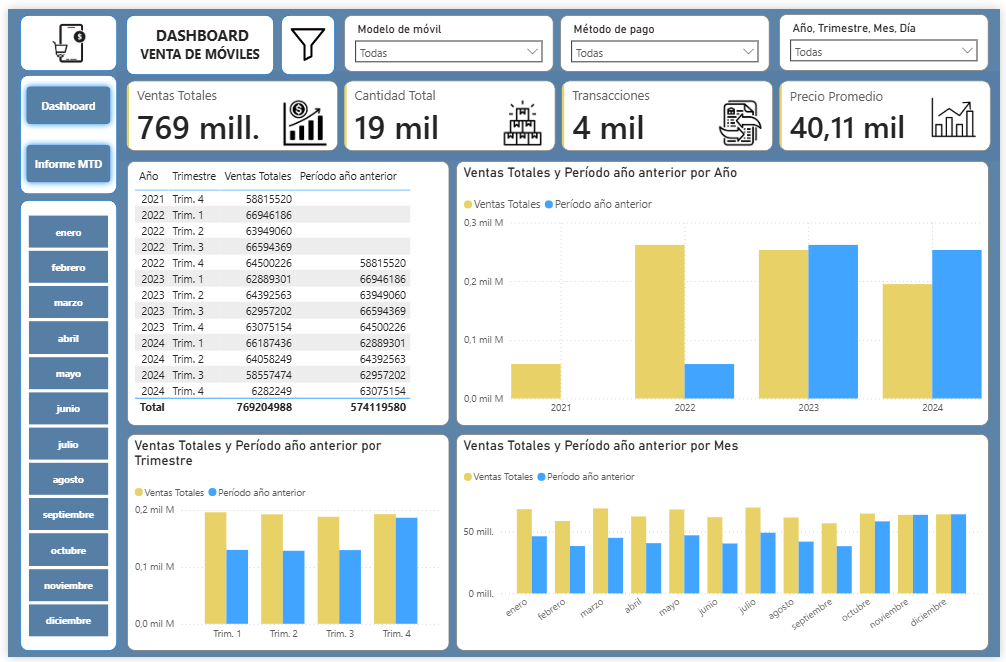

The page's visual inventory and layout, read from the dashboard file:
{"tool":"powerbi","page":{"name":"Período año anterior","canvas":[1240,810],"ordinal":2},"visuals":[{"type":"shape","box":[15.6,7.8,121.2,70],"z":0},{"type":"shape","box":[15.6,83,121.2,149],"z":1000},{"type":"shape","box":[15.6,238.9,121.2,563.8],"z":2000},{"type":"slicer","fields":{"Values":["Custom_Calendar.Fecha.Variación.Jerarquía de fechas.Mes"]},"box":[0,251.1,148.8,540],"z":3000},{"type":"cardVisual","fields":{"Data":["Sales_Data.Total_Sales","Sales_Data.Total_Quantity","Sales_Data.Transactions","Sales_Data.Average_Price"]},"box":[136.2,77.5,1106.2,112.5],"z":4000},{"type":"slicer","fields":{"Values":["Sales_Data.Mobile Model"]},"box":[420,7.5,262,71.2],"z":5000},{"type":"slicer","fields":{"Values":["Sales_Data.Payment Method"]},"box":[690,7.5,262,71.2],"z":6000},{"type":"slicer","fields":{"Values":["Custom_Calendar.Fecha.Variación.Jerarquía de fechas.Año","Custom_Calendar.Fecha.Variación.Jerarquía de fechas.Trimestre","Custom_Calendar.Fecha.Variación.Jerarquía de fechas.Mes","Custom_Calendar.Fecha.Variación.Jerarquía de fechas.Día"]},"box":[963.8,6.2,262,71.2],"z":7000},{"type":"tableEx","fields":{"Values":["Custom_Calendar.Fecha.Variación.Jerarquía de fechas.Año","Custom_Calendar.Fecha.Variación.Jerarquía de fechas.Trimestre","Sales_Data.Total_Sales","Sales_Data.Same Period Last Year"]},"box":[148.8,190,402.5,331.2],"z":8000},{"type":"clusteredColumnChart","fields":{"Category":["Custom_Calendar.Fecha.Variación.Jerarquía de fechas.Año","Custom_Calendar.Fecha.Variación.Jerarquía de fechas.Trimestre"],"Y":["Sales_Data.Total_Sales","Sales_Data.Same Period Last Year"]},"box":[560,190,666.2,331.2],"z":9000},{"type":"clusteredColumnChart","fields":{"Category":["Custom_Calendar.Fecha.Variación.Jerarquía de fechas.Año","Custom_Calendar.Fecha.Variación.Jerarquía de fechas.Trimestre"],"Y":["Sales_Data.Total_Sales","Sales_Data.Same Period Last Year"]},"box":[148.8,531.2,402.5,271.2],"z":10000},{"type":"clusteredColumnChart","fields":{"Category":["Custom_Calendar.Fecha.Variación.Jerarquía de fechas.Año","Custom_Calendar.Fecha.Variación.Jerarquía de fechas.Trimestre","Custom_Calendar.Fecha.Variación.Jerarquía de fechas.Mes","Custom_Calendar.Fecha.Variación.Jerarquía de fechas.Día"],"Y":["Sales_Data.Total_Sales","Sales_Data.Same Period Last Year"]},"box":[560,531.2,666.2,271.2],"z":11000},{"type":"pageNavigator","box":[15,88.8,121.2,137.5],"z":12000},{"type":"image","box":[43.8,1.2,65,83],"z":13000},{"type":"shape","box":[147.5,7.5,185,75],"z":14000},{"type":"textbox","box":[155,15,170,58.8],"z":15000},{"type":"shape","box":[341.2,7.5,67.5,75],"z":16000},{"type":"image","box":[352.5,22.5,45,43.8],"z":17000}]}

Visuals, with their boxes in screenshot pixels (x1, y1, x2, y2), scaled from the page's 1240x810 canvas onto the 1006x662 screenshot:
shape: (13, 6, 111, 64)
shape: (13, 68, 111, 190)
shape: (13, 195, 111, 656)
slicer - Custom_Calendar.Fecha.Variación.Jerarquía de fechas.Mes: (0, 205, 121, 647)
cardVisual - Sales_Data.Total_Sales x Sales_Data.Total_Quantity: (110, 63, 1005, 155)
slicer - Sales_Data.Mobile Model: (341, 6, 553, 64)
slicer - Sales_Data.Payment Method: (560, 6, 772, 64)
slicer - Custom_Calendar.Fecha.Variación.Jerarquía de fechas.Año x Custom_Calendar.Fecha.Variación.Jerarquía de fechas.Trimestre: (782, 5, 994, 63)
tableEx - Custom_Calendar.Fecha.Variación.Jerarquía de fechas.Año x Custom_Calendar.Fecha.Variación.Jerarquía de fechas.Trimestre: (121, 155, 447, 426)
clusteredColumnChart - Custom_Calendar.Fecha.Variación.Jerarquía de fechas.Año x Custom_Calendar.Fecha.Variación.Jerarquía de fechas.Trimestre: (454, 155, 995, 426)
clusteredColumnChart - Custom_Calendar.Fecha.Variación.Jerarquía de fechas.Año x Custom_Calendar.Fecha.Variación.Jerarquía de fechas.Trimestre: (121, 434, 447, 656)
clusteredColumnChart - Custom_Calendar.Fecha.Variación.Jerarquía de fechas.Año x Custom_Calendar.Fecha.Variación.Jerarquía de fechas.Trimestre: (454, 434, 995, 656)
pageNavigator: (12, 73, 110, 185)
image: (36, 1, 88, 69)
shape: (120, 6, 270, 67)
textbox: (126, 12, 264, 60)
shape: (277, 6, 332, 67)
image: (286, 18, 322, 54)
